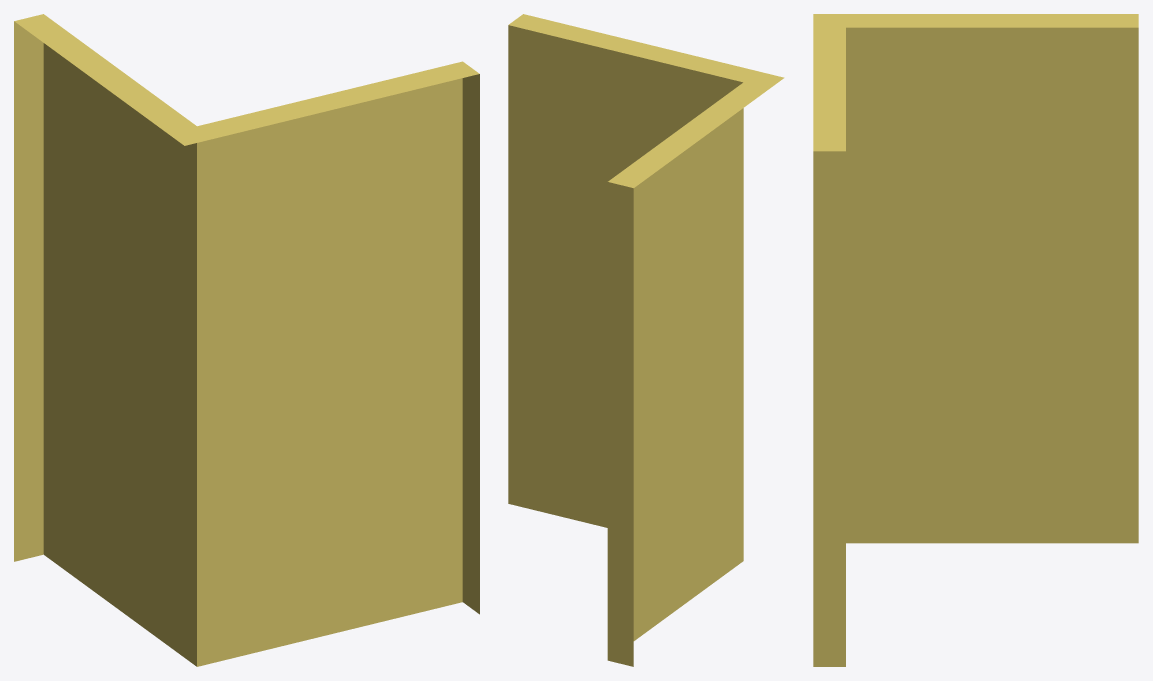
Rendered from Yellow_Wall_Inner_Corner.fbx.
The picture shows the model from 3 angles, left to right: view 1: azimuth 30°, elevation 25°; view 2: azimuth 150°, elevation 25°; view 3: azimuth 270°, elevation 25°; orthographic projection. The views are drawn at different scales.
Parts seen in each view (by area): view 1: Y Inner Corner; view 2: Y Inner Corner; view 3: Y Inner Corner.
Boxes of the visible parts, <box> form: Y Inner Corner: <box>14,14,479,666</box>; Y Inner Corner: <box>508,14,784,666</box>; Y Inner Corner: <box>813,14,1138,666</box>.
Bounding box in the file's own units: 2 × 3.5 × 2.
